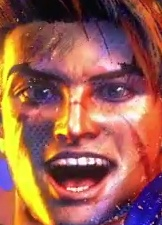kevin: (16, 14, 161, 224)
